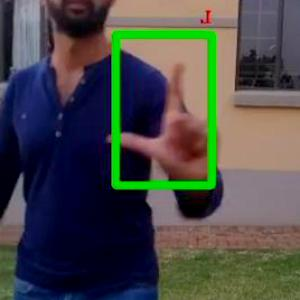land_hand: (104, 49, 223, 183)
